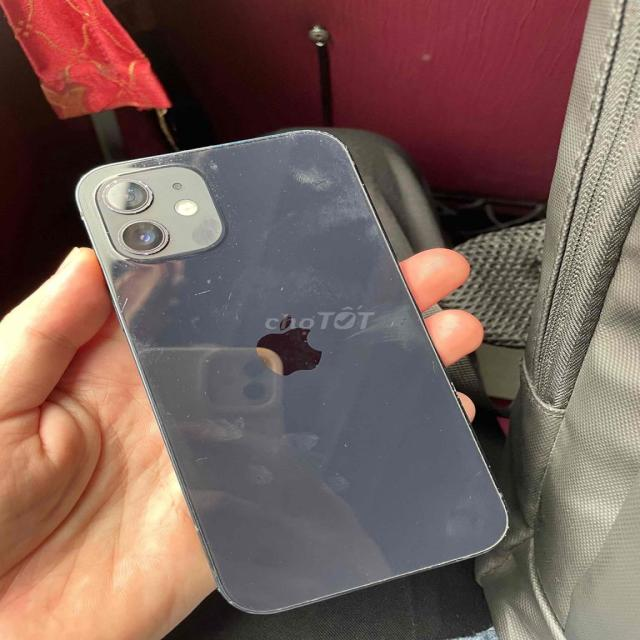gen_12_13: (76, 121, 518, 624)
scratch: (87, 148, 249, 469), (396, 324, 518, 574)
